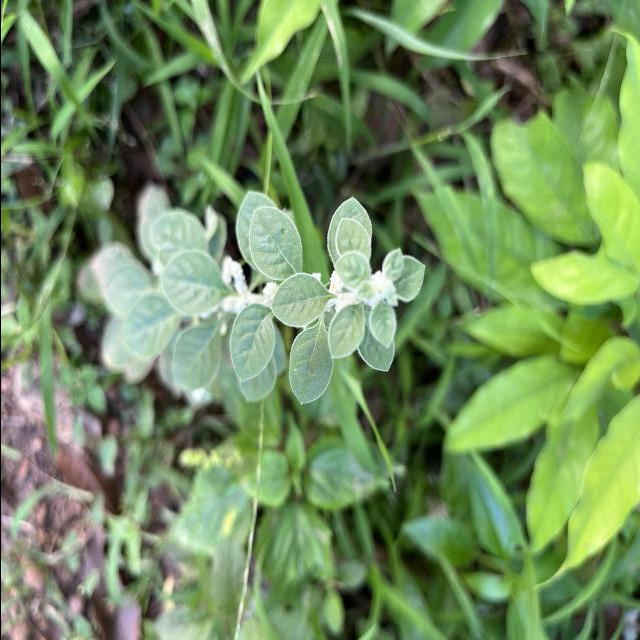Aerva lanata: (247, 204, 304, 284), (286, 322, 334, 408), (266, 271, 328, 330)
